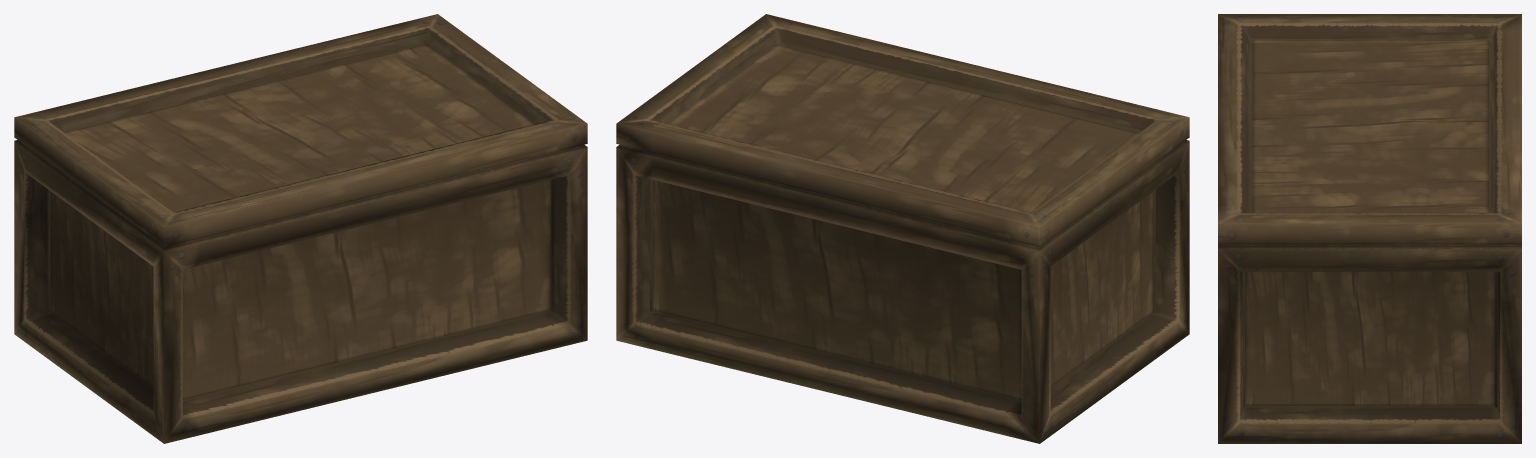
Rendered from CrateLong.fbx.
3 renders of one model, left to right at view 1: azimuth 30°, elevation 25°; view 2: azimuth 150°, elevation 25°; view 3: azimuth 270°, elevation 25°, orthographic.
Parts seen in each view (by area): view 1: Mesh; view 2: Mesh; view 3: Mesh.
Boxes of the visible parts, x1=… form: Mesh: x1=14, y1=14, x2=587, y2=443; Mesh: x1=616, y1=14, x2=1189, y2=443; Mesh: x1=1218, y1=14, x2=1521, y2=443.
Size of the model in its own units: 143 by 69.98 by 87.46.
